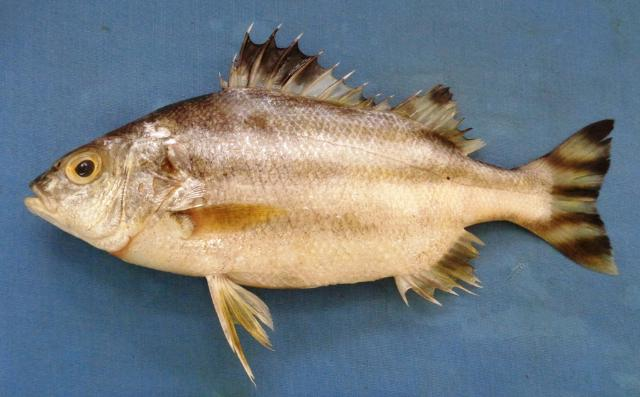Mulut: (13, 164, 61, 230)
Sirip Anal: (394, 226, 488, 310)
Sirip Dada: (166, 191, 296, 249)
Sirip Ekor: (537, 107, 629, 287)
Sirip Perut: (198, 265, 284, 393)
Sirip Punggung: (215, 16, 491, 172)
